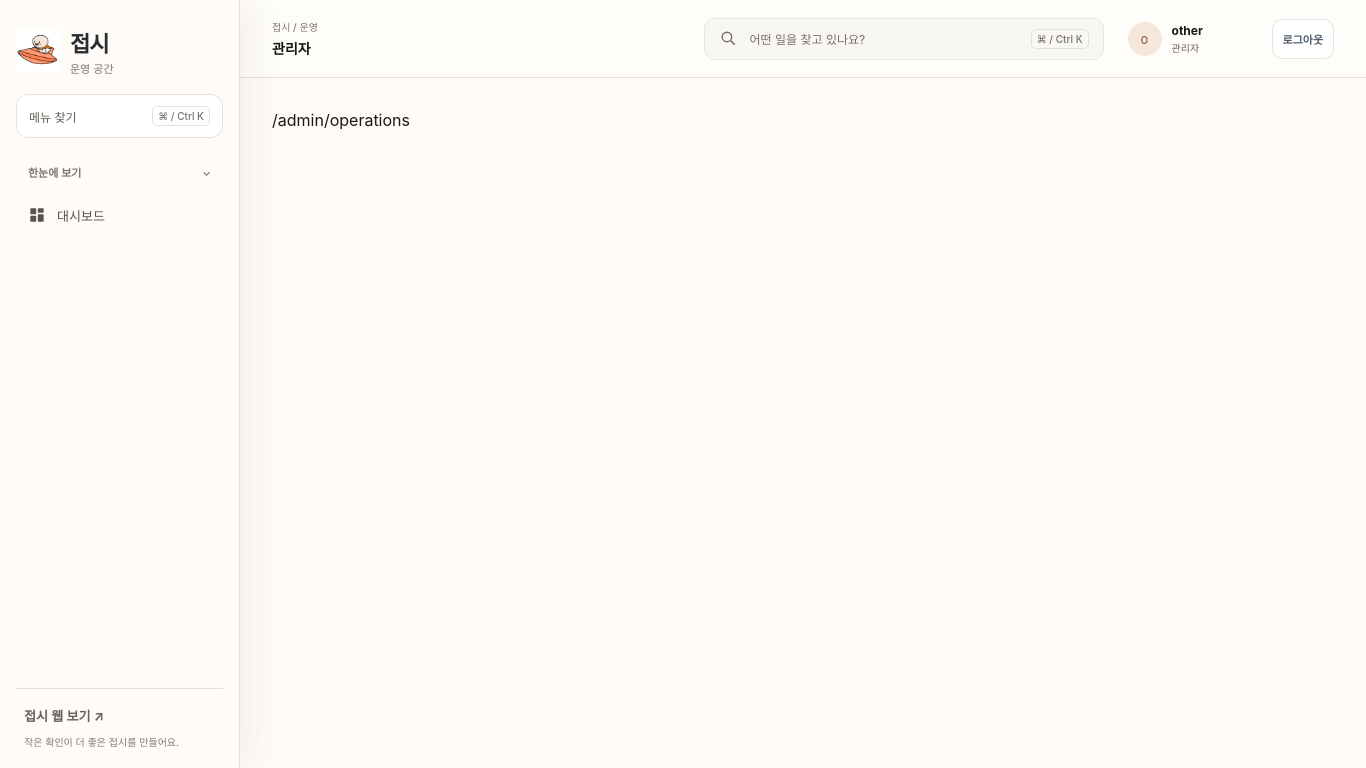
Test case: unprivileged admin cannot find privileged or previously pinned routes
What coordinates should you click on to do the following:
click the button with aria-label "메뉴 찾기"
I would click on:
 (807, 40)
Its box is [704,18,1104,60].
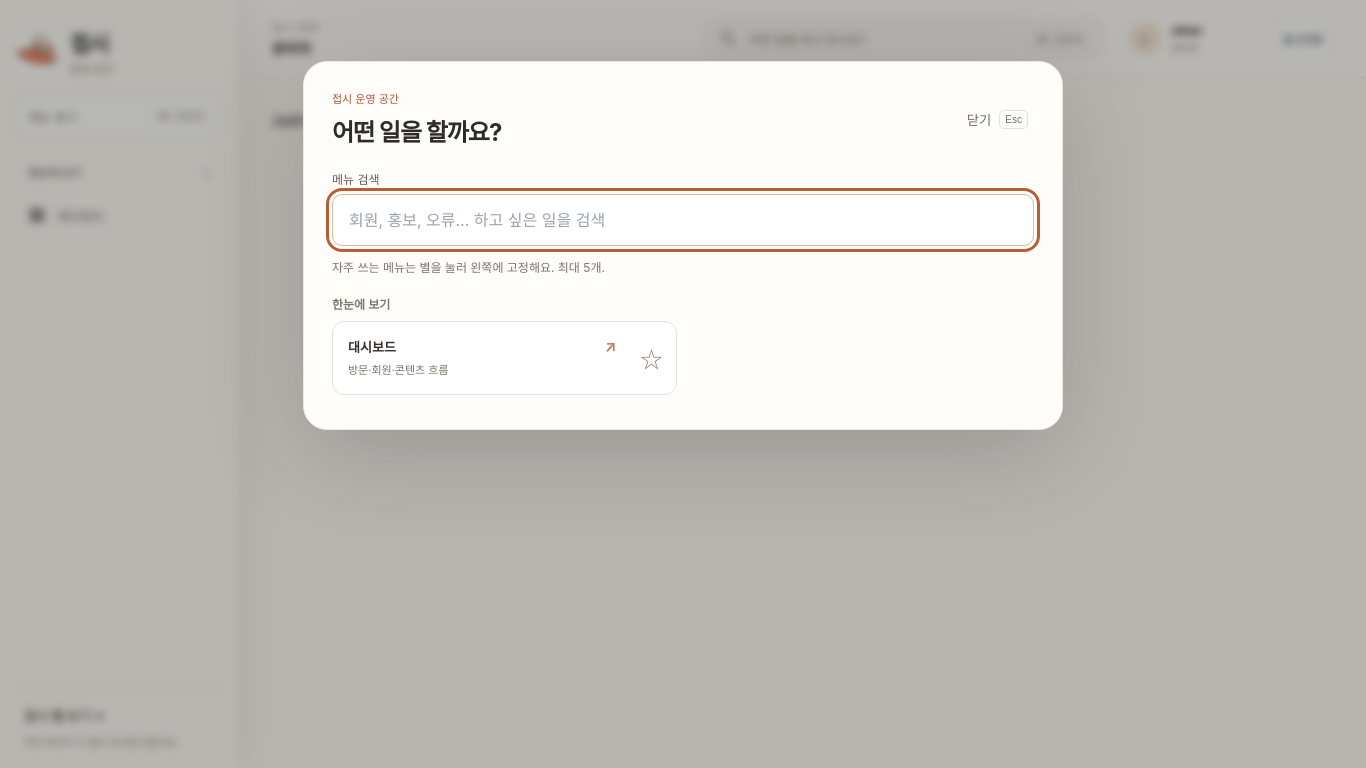
expect the link "대시보드 ↗ 방문·회원·콘텐츠 흐름" is shown: met, box [348,337,616,377]
